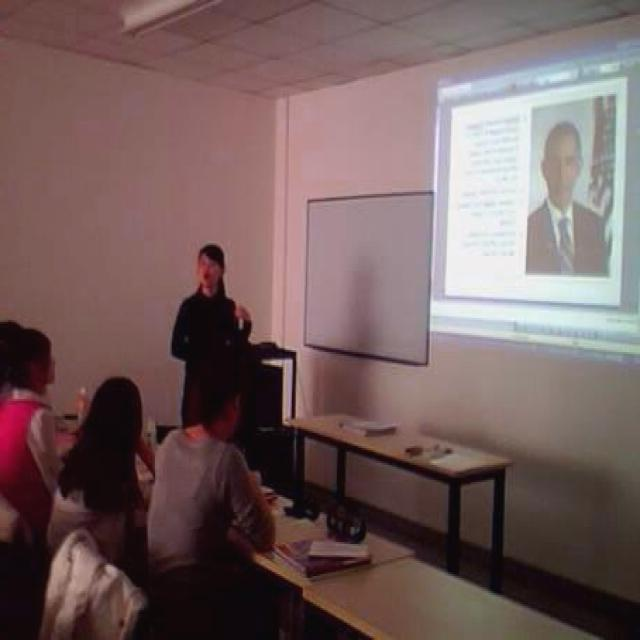face_nomask: (196, 260, 218, 292)
head_nohelmet: (175, 360, 252, 399), (85, 371, 145, 412), (0, 324, 47, 359), (190, 232, 228, 262)
person: (142, 363, 247, 542), (44, 373, 152, 542), (163, 232, 251, 428), (0, 312, 54, 486)
